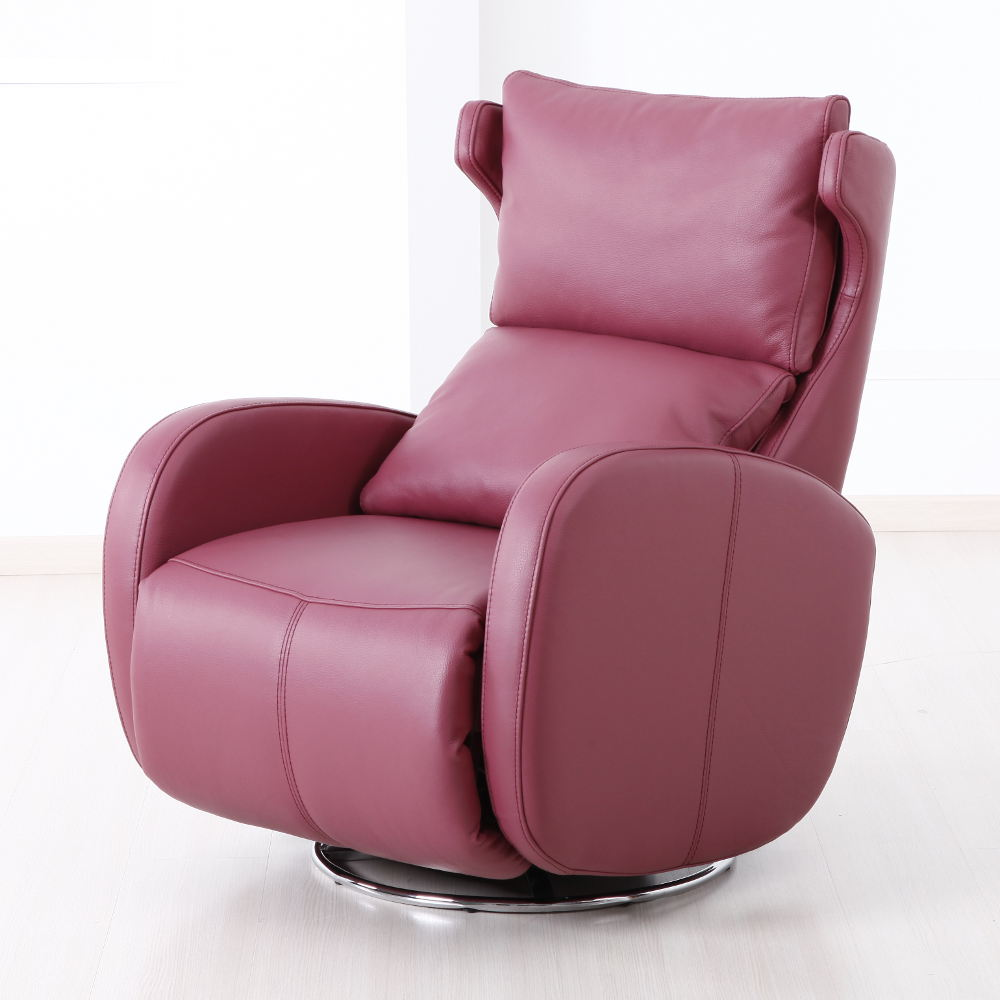chairs: (99, 66, 899, 921)
